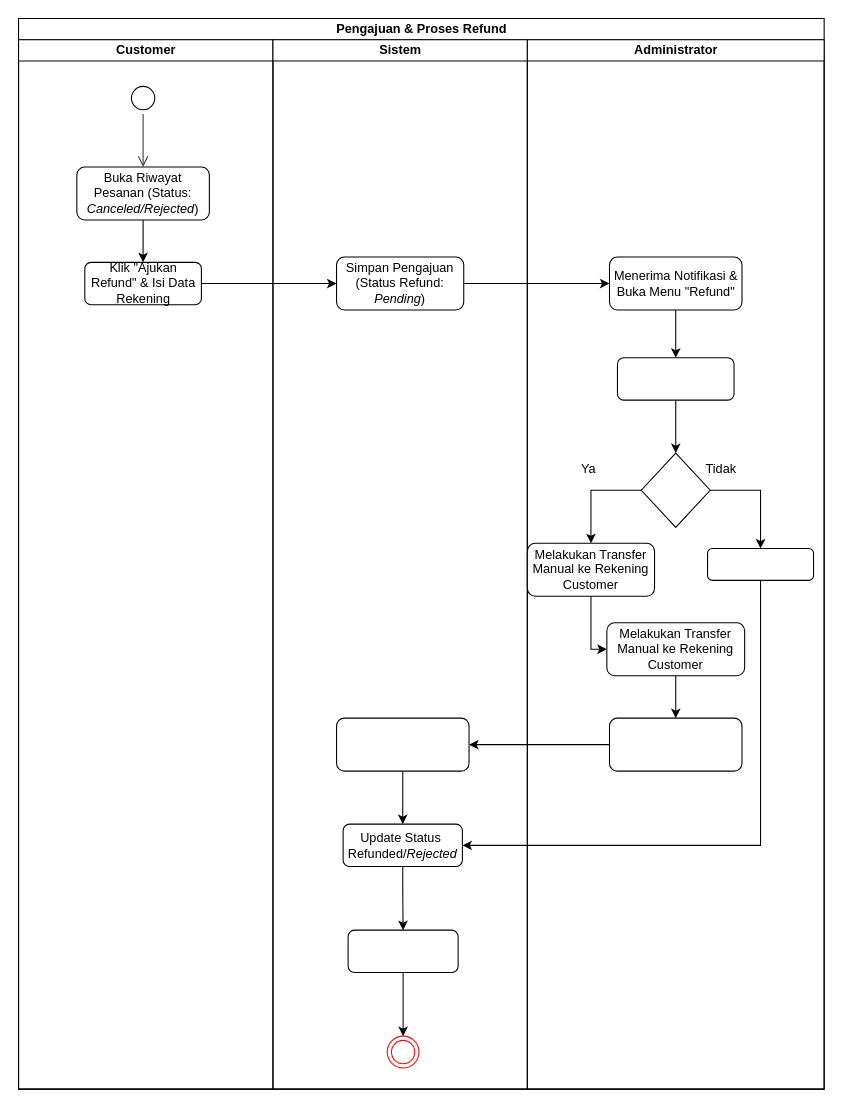
The diagram is 843 pixels wide and 1108 high, and some of its shapes have lost their labels. The centre of each missing label's shape, as x and y in pixels:
Admin Klik Tolak: (x=760, y=563)
Cek Validitas Pengajuan: (x=675, y=378)
Disetujui?: (x=675, y=489)
Kirim Notifikasi ke Customer: (x=402, y=951)
Update Status Refund menjadi Completed: (x=402, y=744)
Upload Bukti Transfer & Klik "Selesaikan Refund": (x=675, y=744)
